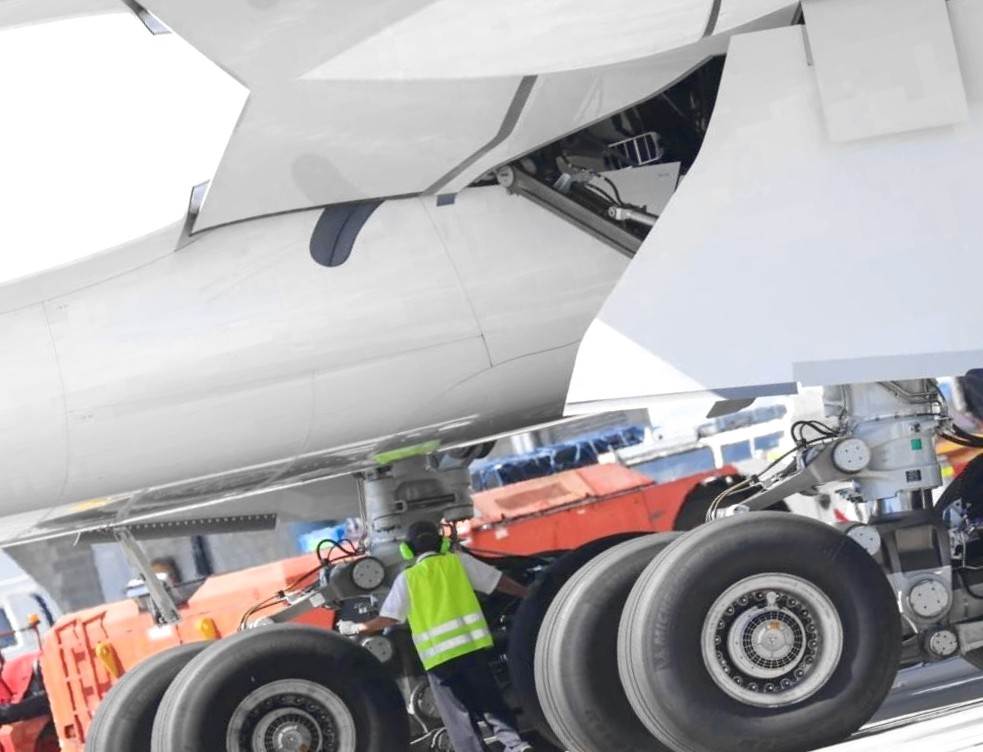wheel: (574, 477, 926, 752), (498, 517, 766, 752), (123, 592, 434, 752), (55, 632, 276, 752), (910, 423, 983, 701), (661, 466, 771, 539), (4, 722, 87, 752)
